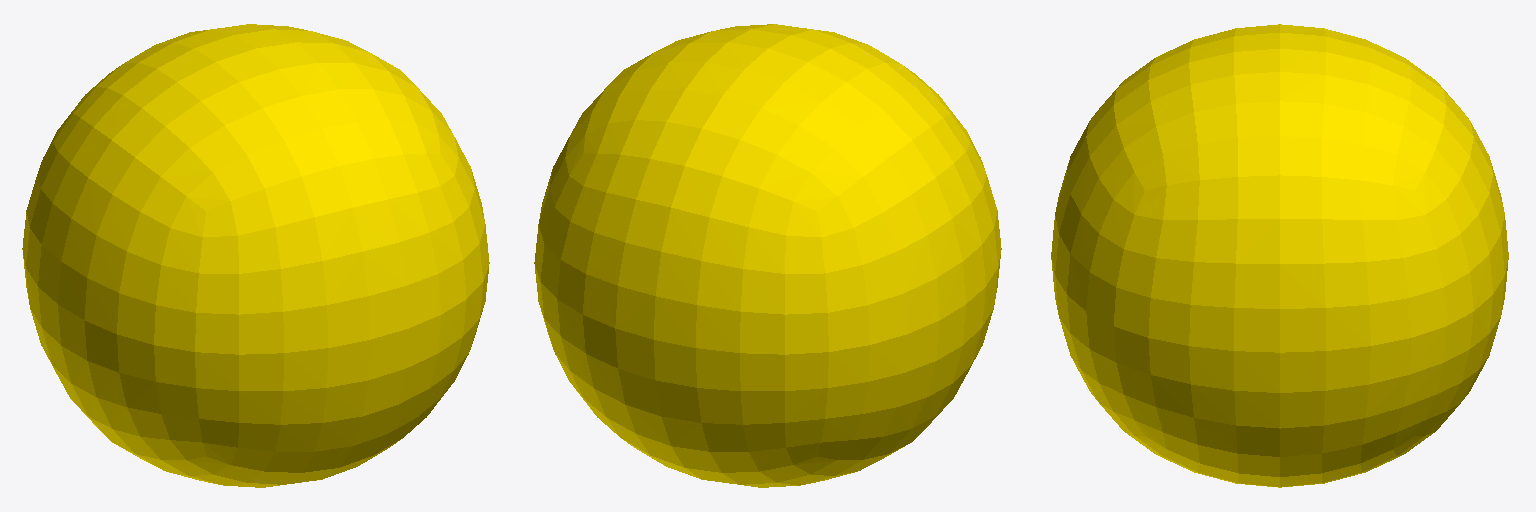
The model's file is explosion.obj.
The picture shows the model from 3 angles: view 1: azimuth 30°, elevation 25°; view 2: azimuth 150°, elevation 25°; view 3: azimuth 270°, elevation 25°; orthographic projection.
Parts seen in each view (by area): view 1: Cube; view 2: Cube; view 3: Cube.
Part boxes in pixels (x1,y1,x2,y2): Cube: (22, 24, 489, 487); Cube: (534, 24, 1001, 487); Cube: (1051, 24, 1508, 487).
Bounding box in the file's own units: 11.83 × 11.83 × 11.83.